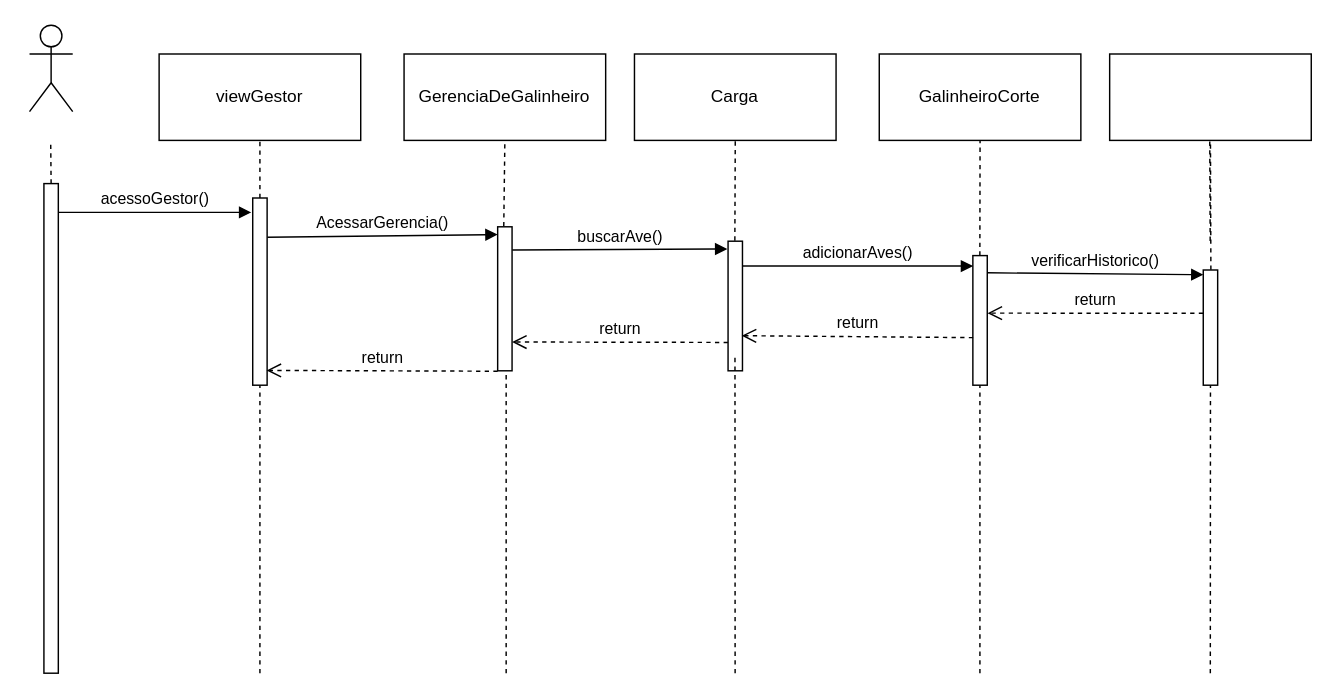
This 1338x700 diagram has some shape labels left out. The shapes that lost their labels are listed below. From the top down, each one's centre as x and y in pixels, then its label:
At point (50, 68): "Gestor".
At point (1209, 96): "historico".
